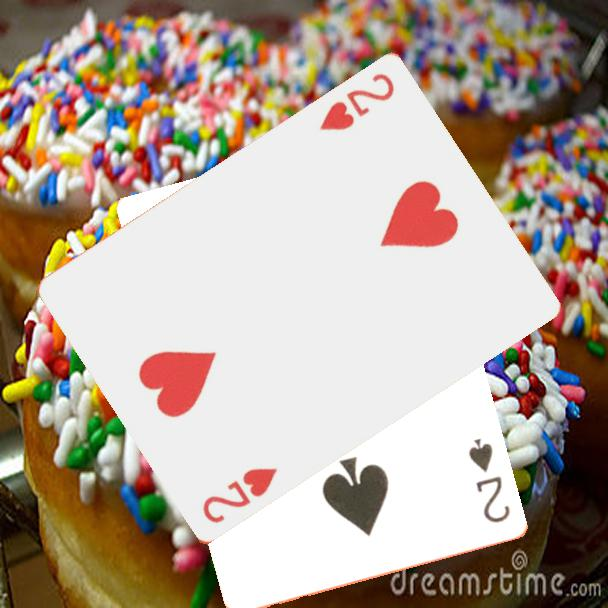h02: (315, 70, 398, 135), (198, 464, 280, 527)
s02: (465, 435, 514, 526)
